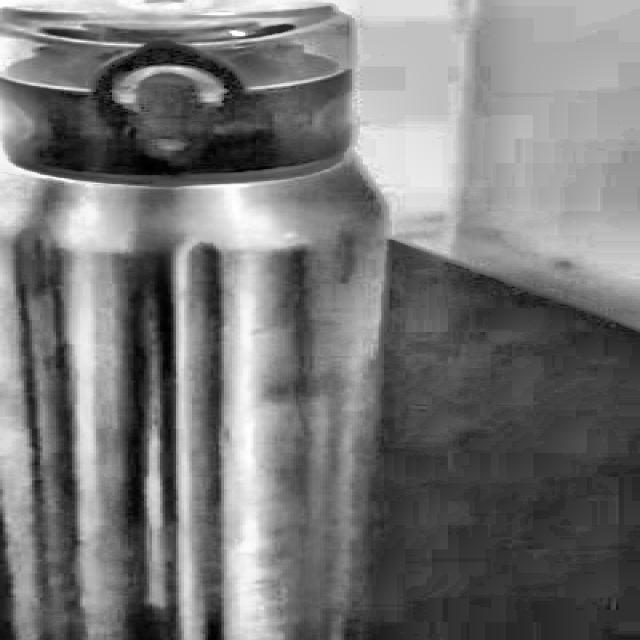bottle: (0, 0, 392, 640)
